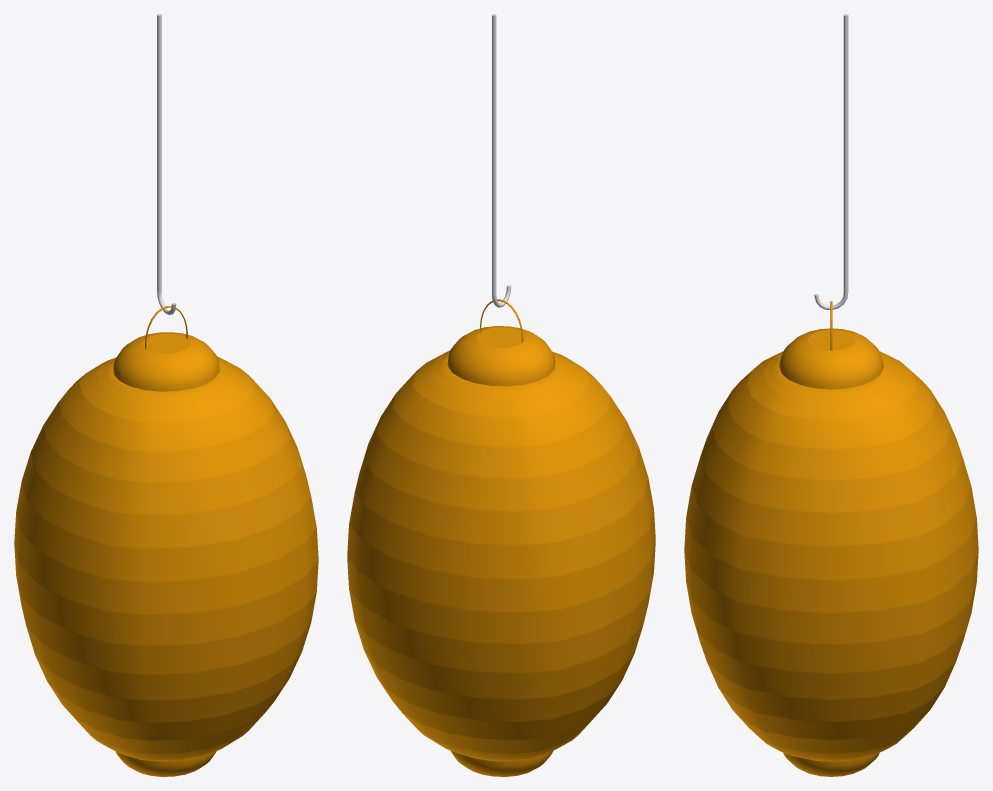
File: PaperLamp1.fbx
3 renders of one model, left to right at view 1: azimuth 30°, elevation 25°; view 2: azimuth 150°, elevation 25°; view 3: azimuth 270°, elevation 25°, orthographic.
Parts seen in each view (by area): view 1: papier, bout_noir1, crochet, bout_noir2; view 2: papier, bout_noir1, crochet, bout_noir2; view 3: papier, bout_noir1, crochet, bout_noir2.
Boxes of the visible parts, x1,y1,x2,y2 form: papier: (14, 356, 318, 761); bout_noir1: (113, 332, 219, 391); crochet: (157, 14, 176, 315); bout_noir2: (115, 751, 216, 776); papier: (347, 350, 655, 761); bout_noir1: (447, 326, 555, 386); crochet: (492, 14, 511, 307); bout_noir2: (450, 750, 552, 776); papier: (684, 351, 978, 761); bout_noir1: (779, 328, 883, 389); crochet: (814, 14, 848, 309); bout_noir2: (783, 753, 879, 776).
Size of the model in its own units: 2.51 by 6.91 by 2.46.
